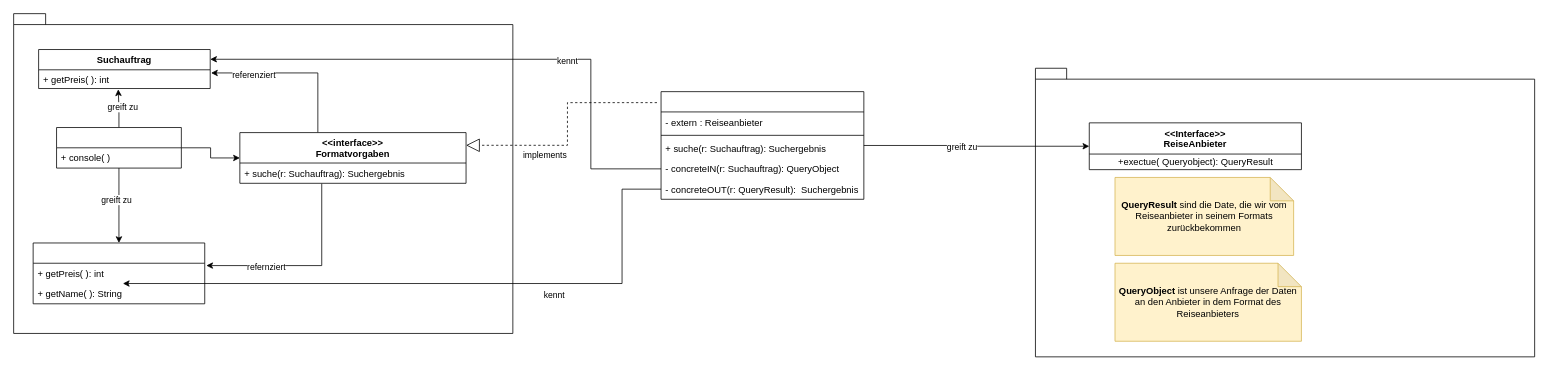
This 1548x371 diagram has some shape labels left out. Here are the shapes that lost their labels. From the top down, the box of each, then its label:
(56, 127, 181, 168): Hotelsuche
(660, 91, 864, 199): Adapter
(32, 242, 205, 304): Suchergebnis
